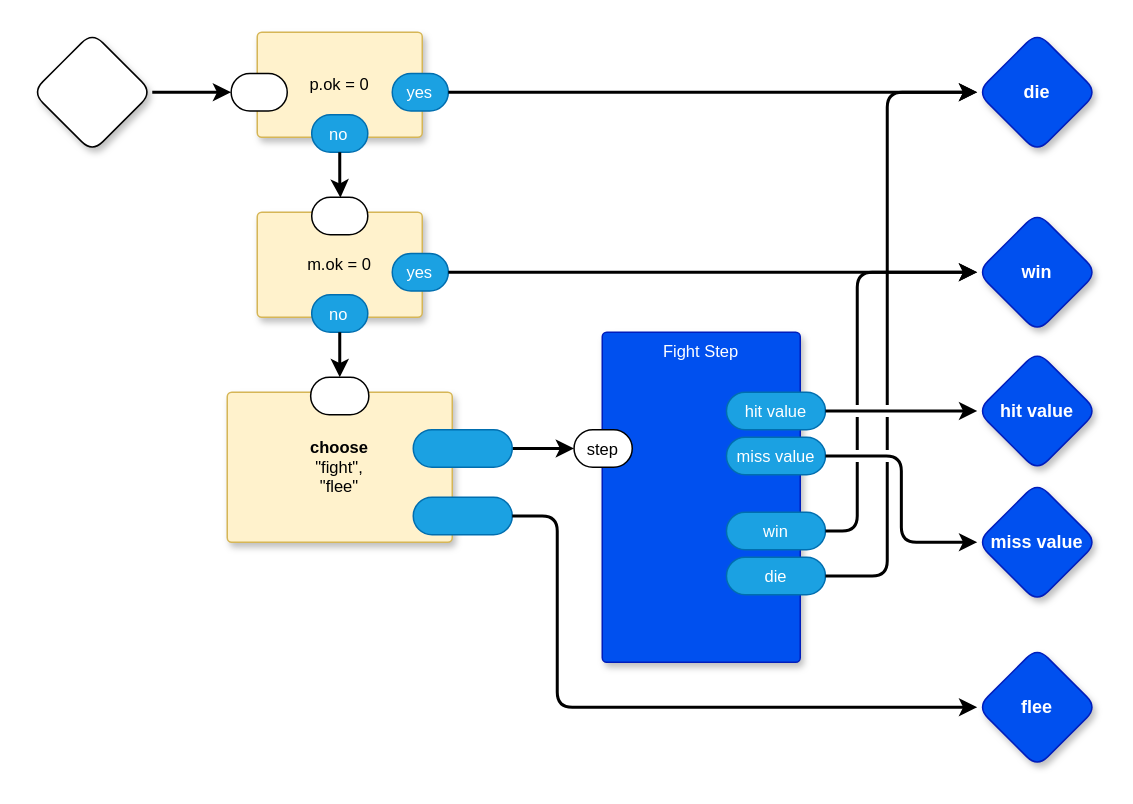
This 1133x804 diagram has some shape labels left out. Each missing label, with the centre of its shape:
"fight": pixel 462 447
"flee": pixel 462 515
